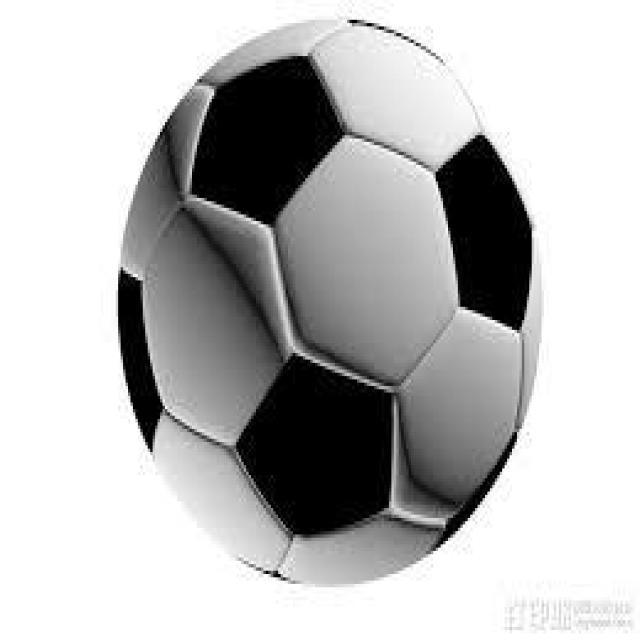Soccer Ball: (113, 16, 542, 584)
